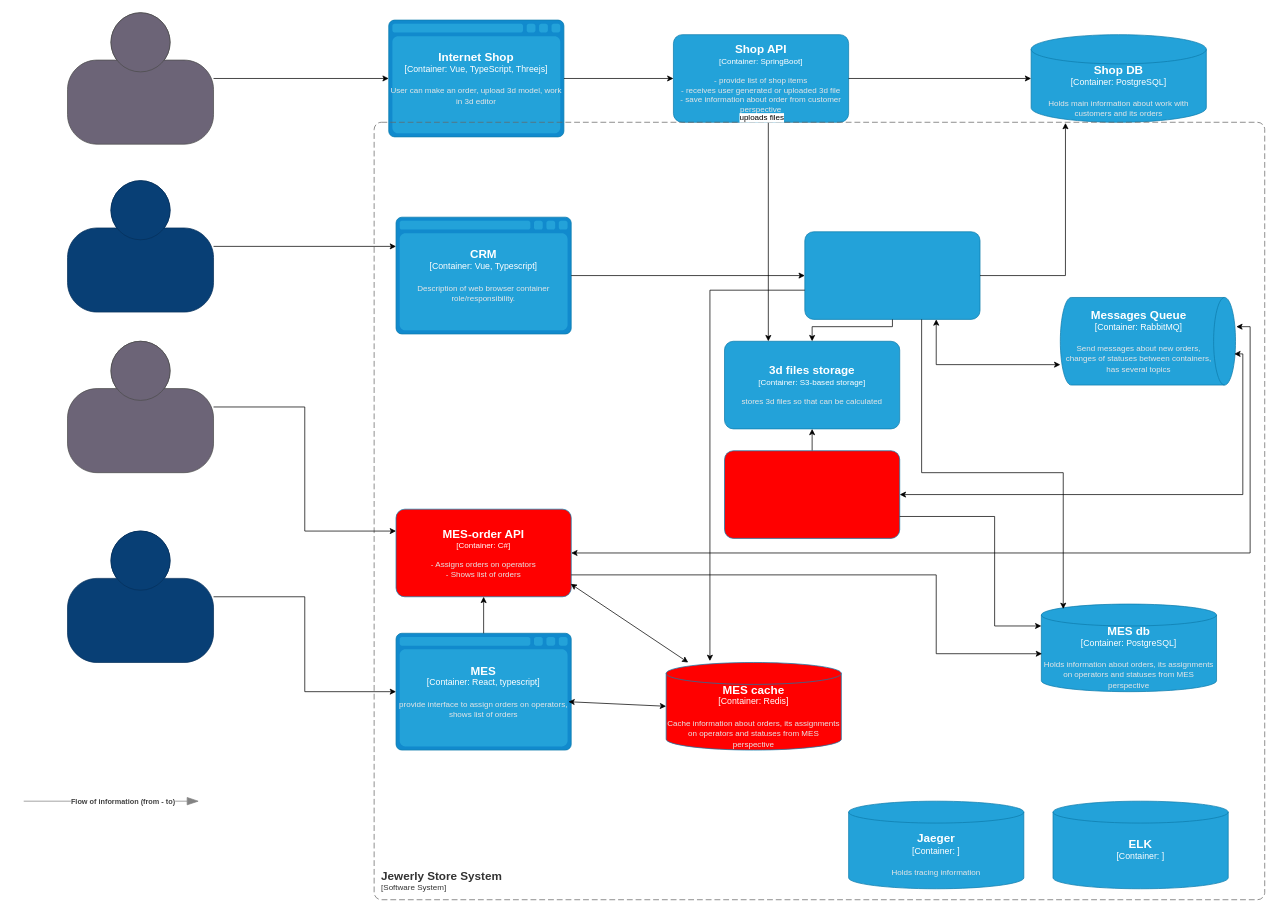
Image size: 1278x913. Some labels were removed from this diagram. The centre of each missing label's shape, as x and y in pixels:
"API user [Person] Description of external person." goes at point (140, 407).
"CRM API [Container: SpringBoot] Description of container role/responsibility." goes at point (892, 275).
"Customer [Person] Description of external person." goes at point (140, 78).
"MES-price API [Container: C#] - Calculates price of the order" goes at point (812, 494).
"Operator [Person] Takes order in work, manufactures jewerly" goes at point (140, 596).
"Seller [Person] Operates with order, confirms manufacturing for the user" goes at point (140, 246).
